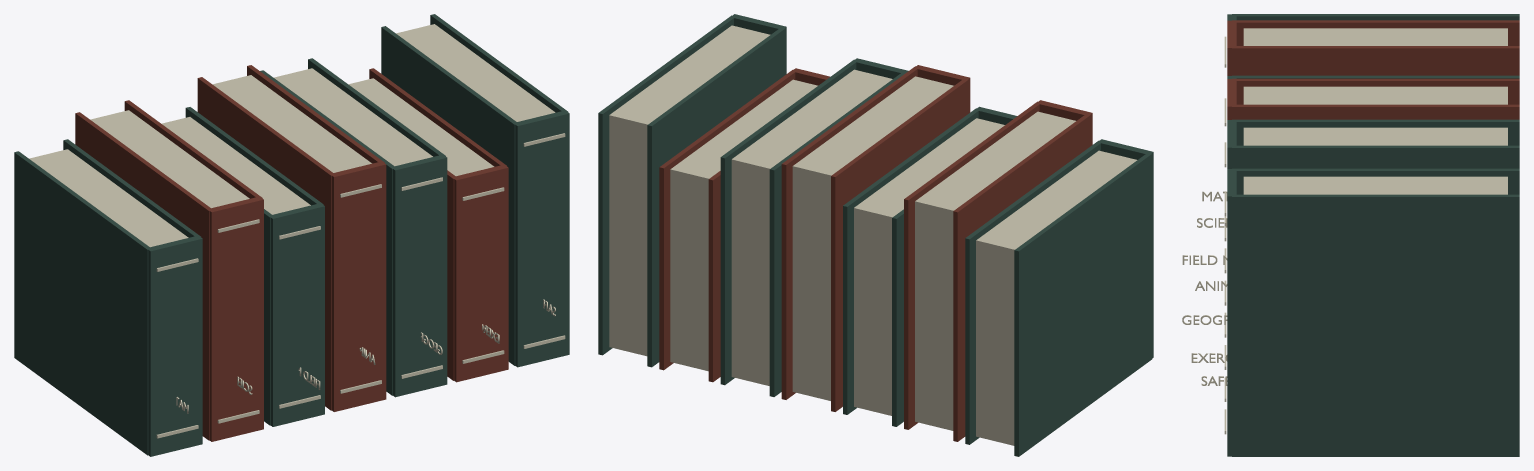
Rendered from books.glb.
The picture shows the model from 3 angles, left to right: view 1: azimuth 30°, elevation 25°; view 2: azimuth 150°, elevation 25°; view 3: azimuth 270°, elevation 25°; orthographic projection. The views are drawn at different scales.
Parts seen in each view (by area): view 1: Cloth binding, Spine.006, Spine.003, Spine.001, Spine.004, Spine.002, Spine, Spine.005, Cloth binding.012, Cloth binding.006, Cloth binding.002, Pages.003 (+16 smaller); view 2: Cloth binding, Pages.006, Pages.003, Pages.001, Pages.004, Pages, Pages.002, Pages.005, Cloth binding.012, Cloth binding.006, Cloth binding.002, Cloth binding.013 (+14 smaller); view 3: Cloth binding.013, Cloth binding.003, Cloth binding.009, Pages.003, Pages.004, Pages.006, Pages.001, Cloth binding.007, Cloth binding.006, Cloth binding.008, Cloth binding.012, Cloth binding.002 (+5 smaller).
Boxes of the visible parts, x1,y1,x2,y2 form: Cloth binding: (14,151,151,455); Spine.006: (514,111,569,367); Spine.003: (330,161,386,411); Spine.001: (208,196,263,441); Spine.004: (392,154,447,397); Spine.002: (269,204,324,426); Spine: (148,236,202,456); Spine.005: (454,164,508,382); Cloth binding.012: (381,26,518,365); Cloth binding.006: (197,77,334,410); Cloth binding.002: (75,112,212,440); Pages.003: (212,75,371,172); Cloth binding: (1014,153,1152,456); Pages.006: (609,25,770,356); Pages.003: (792,76,953,400); Pages.001: (915,111,1075,430); Pages.004: (731,69,892,385); Pages: (976,150,1137,445); Pages.002: (854,118,1004,415); Pages.005: (670,79,817,371); Cloth binding.012: (647,27,785,367); Cloth binding.006: (831,79,968,411); Cloth binding.002: (953,114,1091,441); Cloth binding.013: (598,15,735,355); Cloth binding.013: (1232,194,1519,456); Cloth binding.003: (1232,46,1519,75); Cloth binding.009: (1232,145,1519,168); Pages.003: (1243,86,1507,104); Pages.004: (1243,127,1507,145); Pages.006: (1243,176,1507,194); Pages.001: (1243,28,1507,45); Cloth binding.007: (1232,104,1519,119); Cloth binding.006: (1232,78,1519,104); Cloth binding.008: (1232,119,1519,145); Cloth binding.012: (1232,168,1519,194); Cloth binding.002: (1232,20,1519,45).
Size of the model in its own units: 0.564 by 0.3091 by 0.3635.
